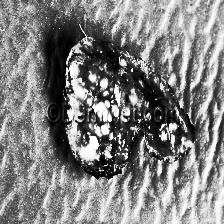Benign Marking or Mole: (62, 37, 196, 182)
